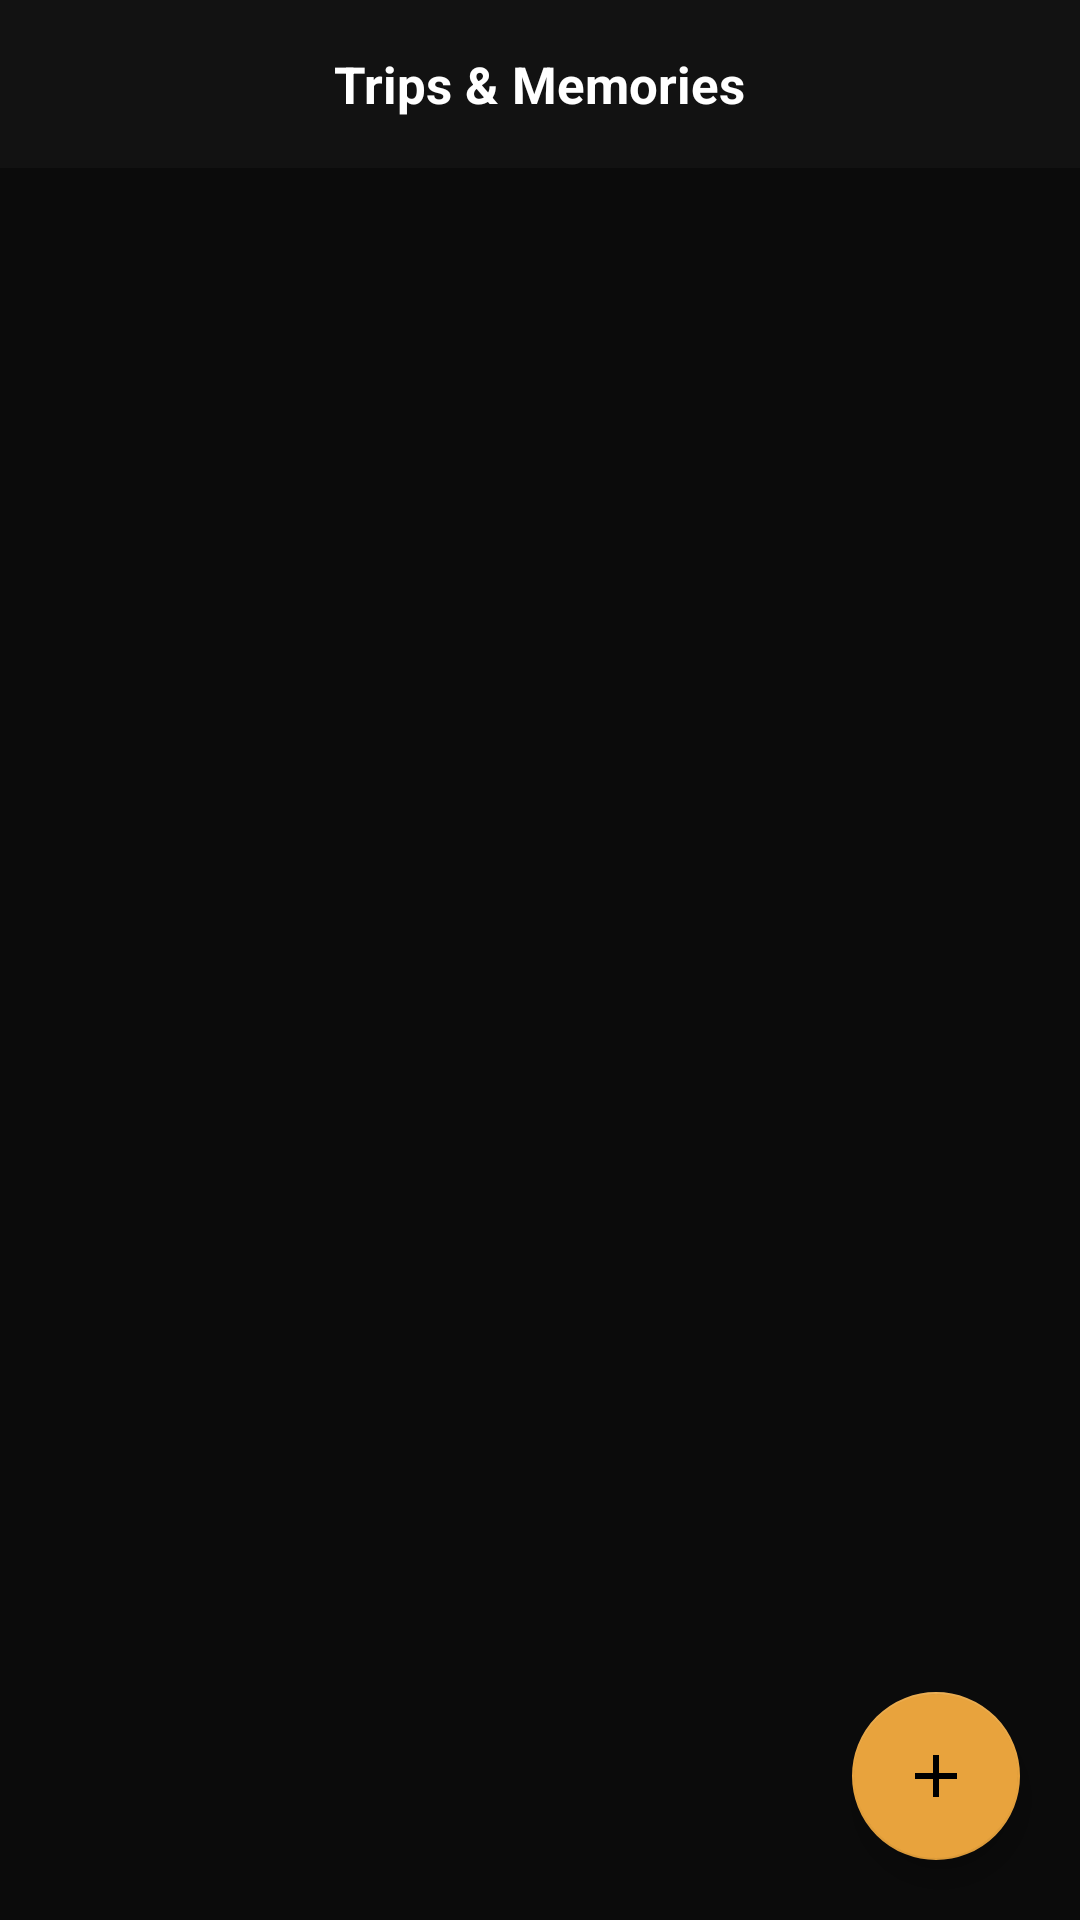

Locate icon controls on the screen. Image size 1080×1920, boxes as (x1, y1, x2, y2).
Create trip: (852, 1692, 1020, 1860)
